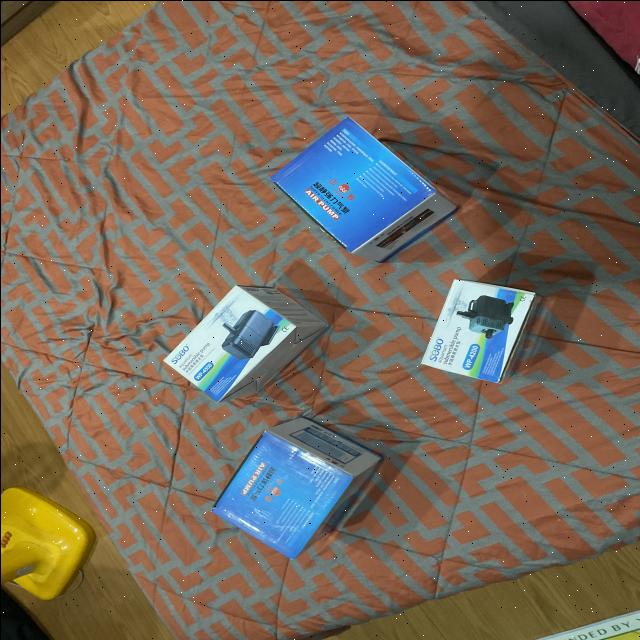SOBO_WP_4200: (154, 278, 333, 408), (416, 268, 550, 396)
YAMANO_LPP_20: (256, 106, 467, 275), (200, 414, 388, 564)
